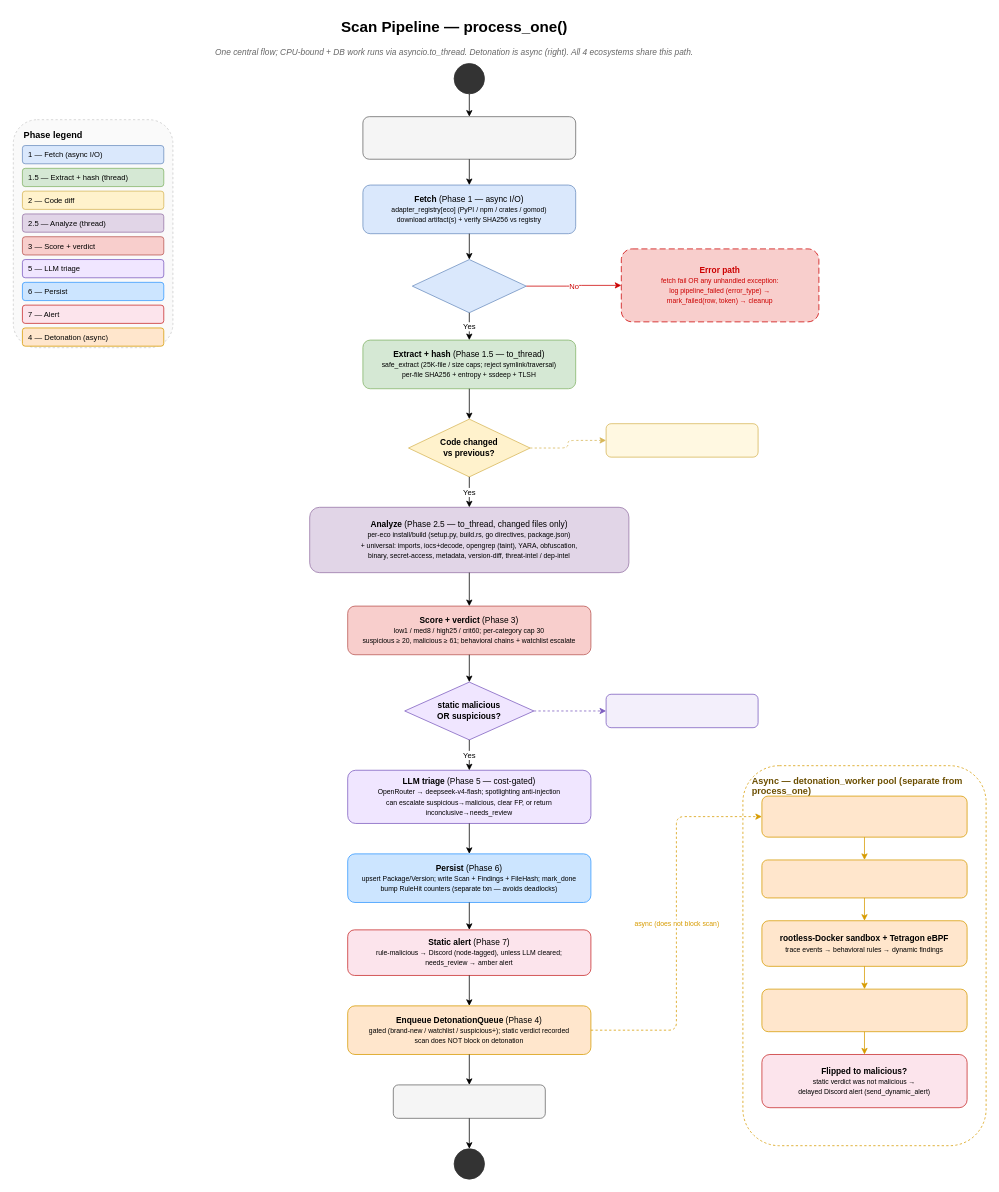
The diagram is 999 pixels wide and 1192 high, and some of its shapes have lost their labels. The shapes that lost their labels are listed below. From the top down, each one's centre as x and y in pixels, then its label:
At point 469,137: "Claim queue item validate claim_token (CAS); bind structlog (sid, eco, pkg, w)".
At point 469,286: "Fetch OK?".
At point 681,440: "No — no_code_changes: reuse findings, straight to persist".
At point 681,711: "No — clean/below threshold: skip LLM (cost gate)".
At point 864,816: "Claim job from DetonationQueue backlog-weighted, high → low".
At point 864,878: "Re-fetch archive by (eco, name, version)".
At point 864,1010: "Persist Detonation + TraceEvents re-score (static + dynamic); update verdict".
At point 469,1101: "finally: cleanup temp dirs".
